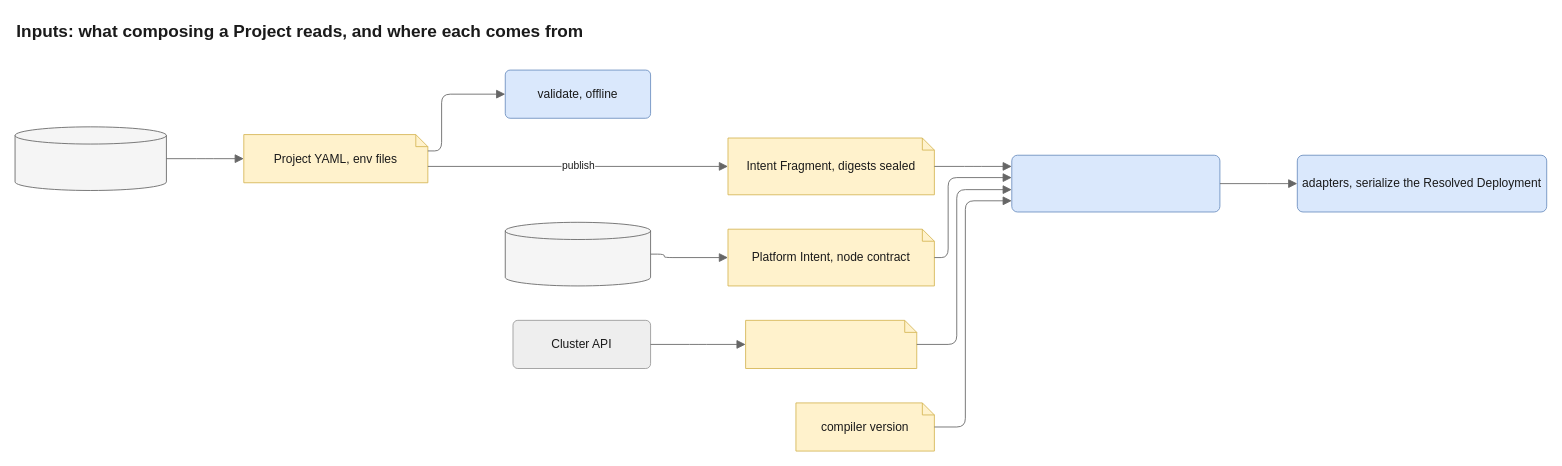
The diagram is 1562 pixels wide and 466 high, and some of its shapes have lost their labels. The shapes that lost their labels are listed below. From the top down, each one's centre as x and y in pixels, then its label:
pixel 90 158: Project repository
pixel 1115 183: compose: read, check, lower, resolve
pixel 577 253: estate repository
pixel 831 344: ClusterState snapshot
